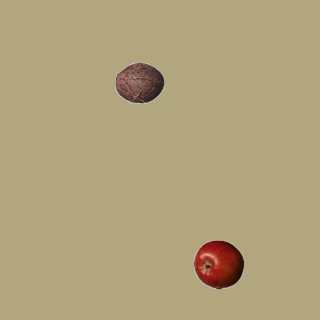Apple Braeburn: (193, 239, 243, 289)
Cocos: (114, 57, 164, 107)
